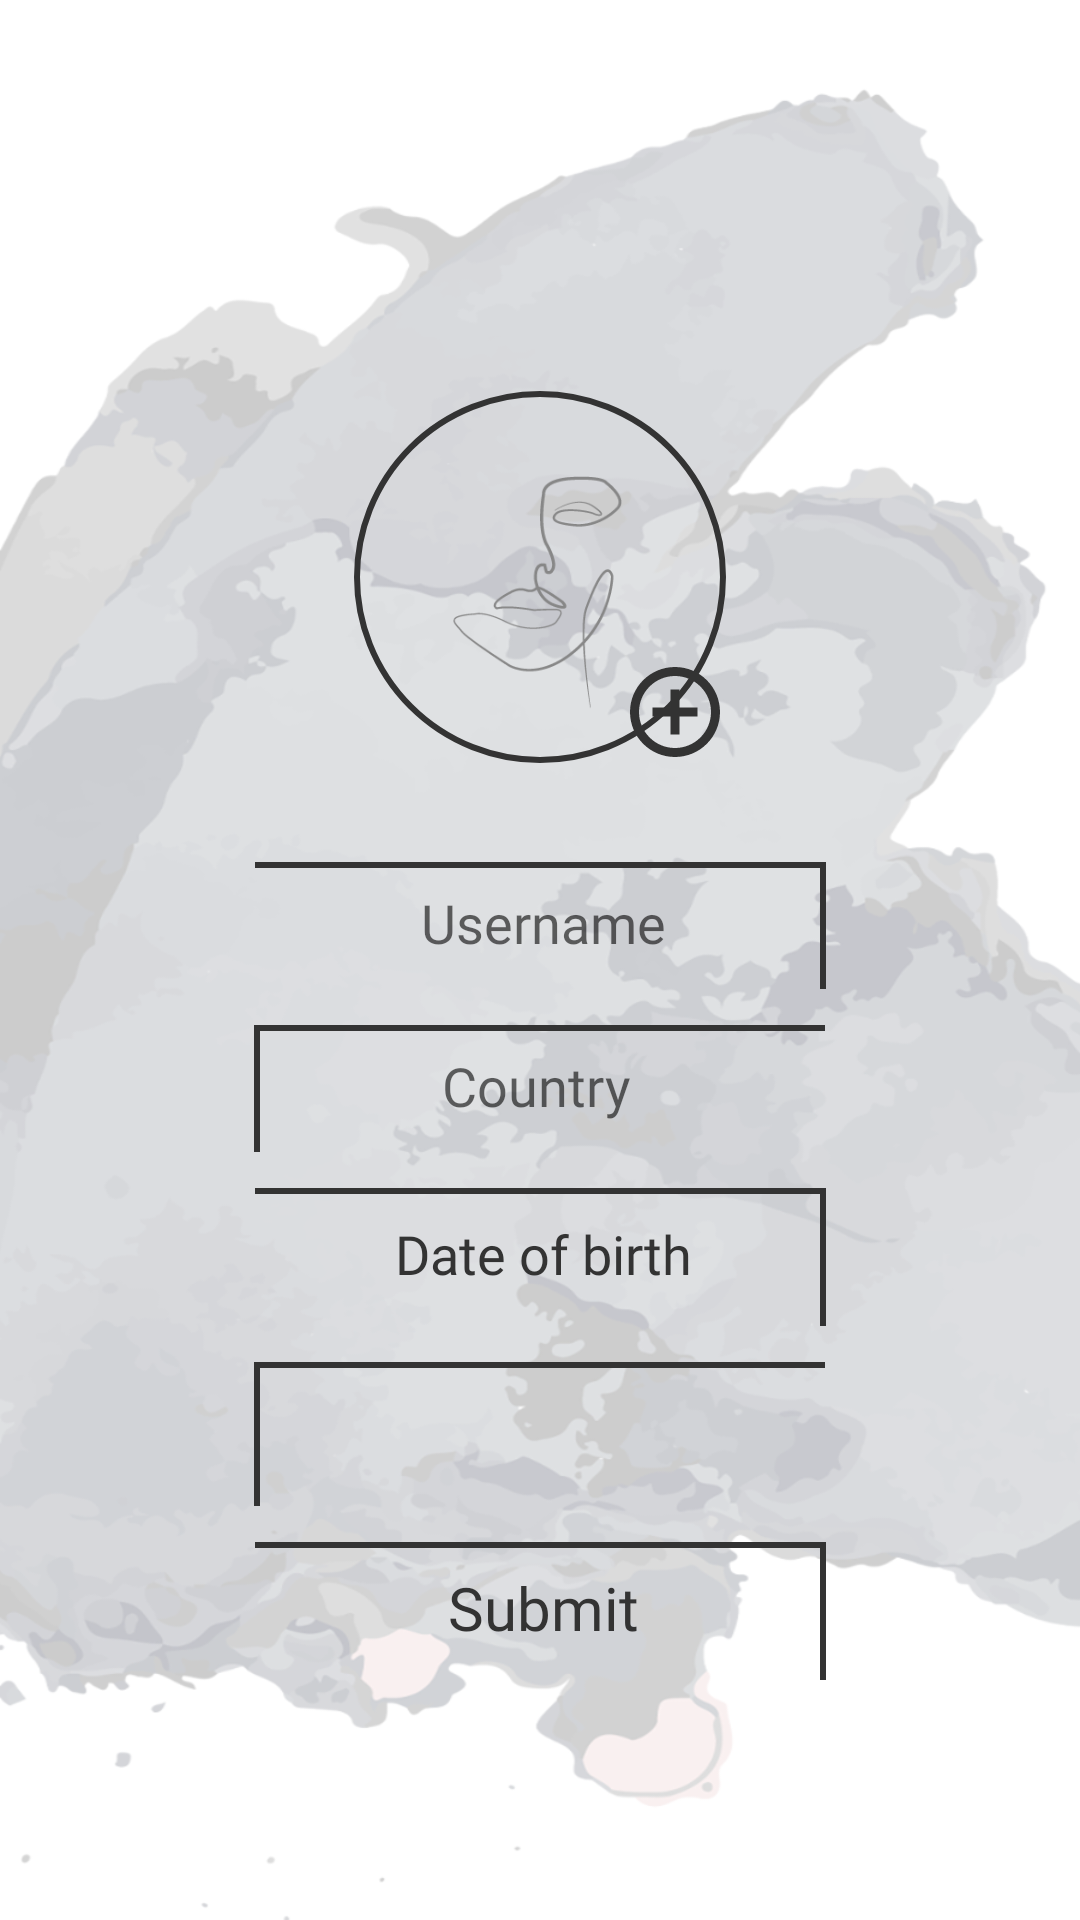

Where icons sit on this 1080 x 1920 app screen, as (left=x1, top=y1, right=x2, bottom=y2):
add circle: (left=621, top=658, right=720, bottom=757)
